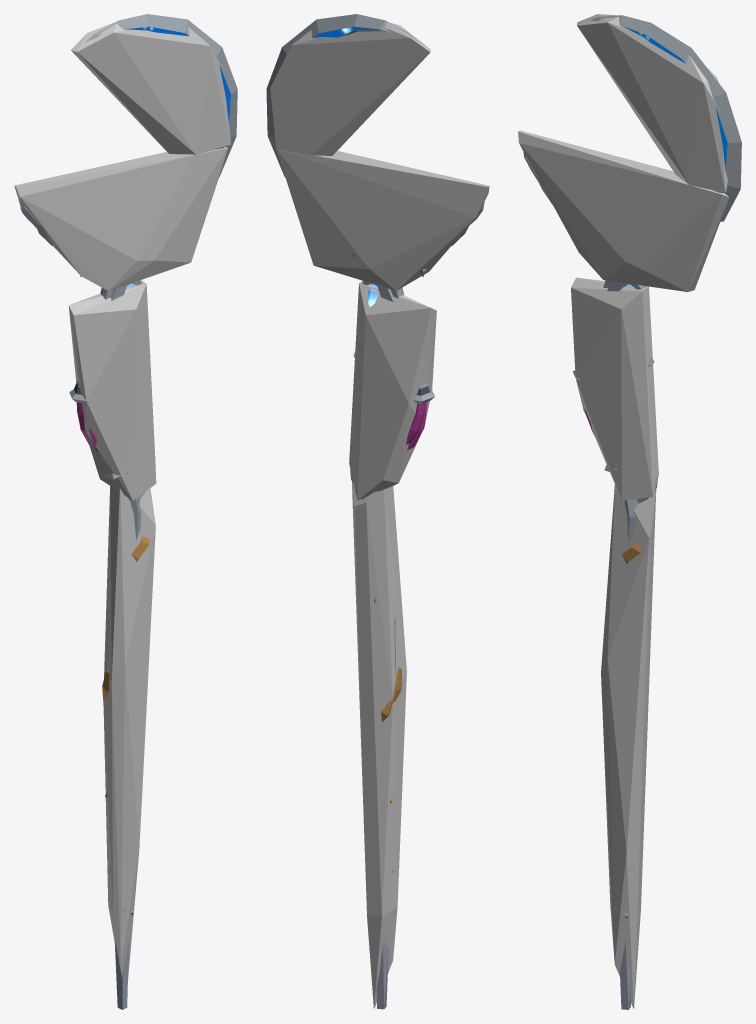
File: SM_Wep_Staff_01.fbx
3 renders of one model, left to right at view 1: azimuth 30°, elevation 25°; view 2: azimuth 150°, elevation 25°; view 3: azimuth 330°, elevation 25°, orthographic.
Visible parts, largest first — view 1: SM_Wep_Staff_01_ConvexHulls, SM_Wep_Staff_01; view 2: SM_Wep_Staff_01_ConvexHulls, SM_Wep_Staff_01; view 3: SM_Wep_Staff_01_ConvexHulls, SM_Wep_Staff_01.
Part boxes in pixels (x1,y1,x2,y2): SM_Wep_Staff_01_ConvexHulls: [14, 22, 231, 978]; SM_Wep_Staff_01: [19, 14, 237, 1009]; SM_Wep_Staff_01_ConvexHulls: [270, 22, 489, 1009]; SM_Wep_Staff_01: [266, 14, 484, 1009]; SM_Wep_Staff_01_ConvexHulls: [518, 14, 738, 1008]; SM_Wep_Staff_01: [523, 15, 741, 1009].
Size of the model in its own units: 47.51 by 7.61 by 202.
Materials: 2 (1 with a texture image).
